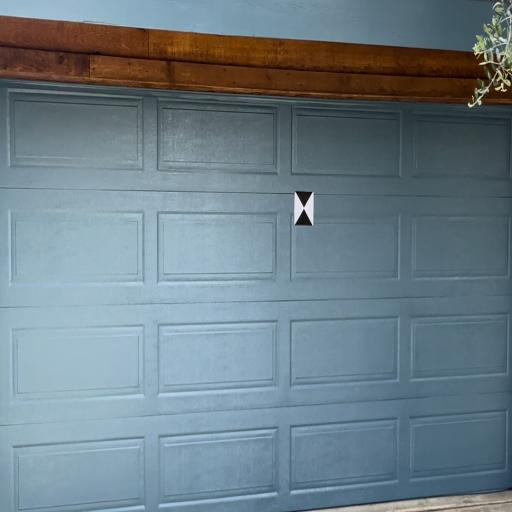target: (294, 192, 314, 226)
